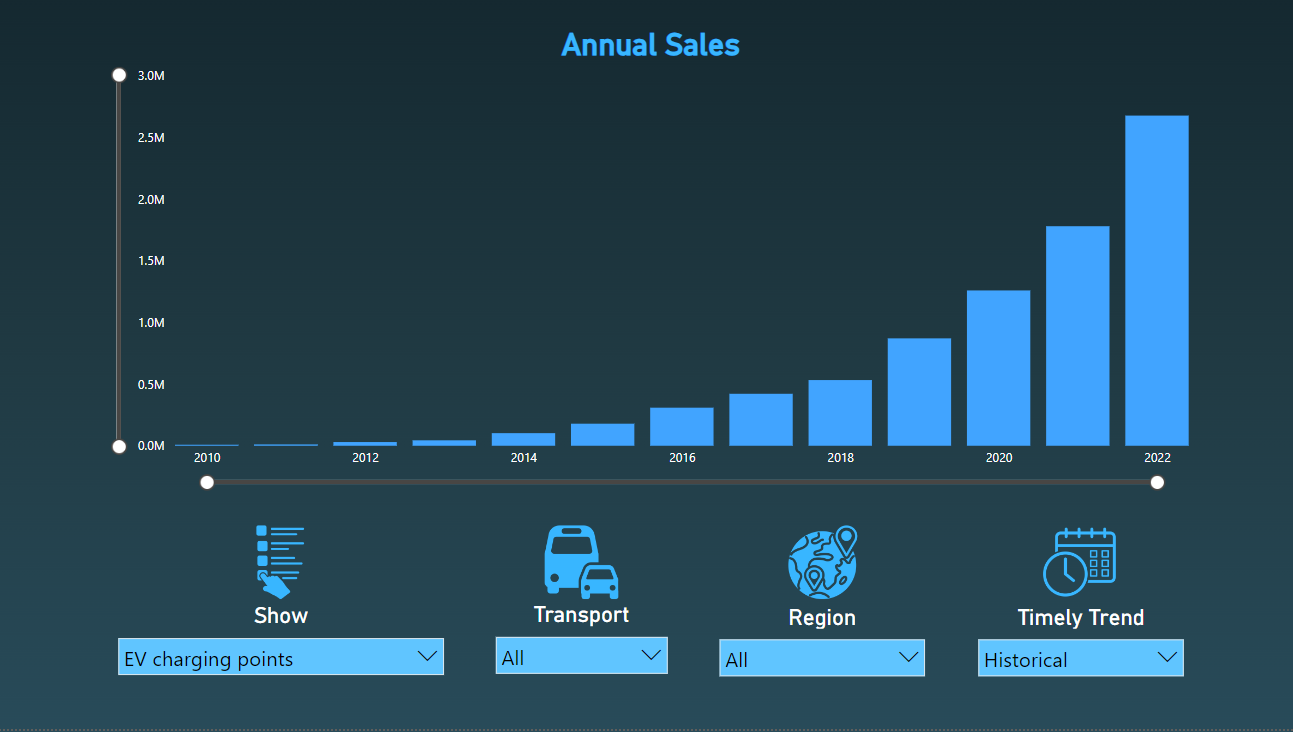

The page's visual inventory and layout, read from the dashboard file:
{"tool":"powerbi","page":{"name":"Global 2","canvas":[1280,720],"ordinal":1},"visuals":[{"type":"image","box":[530.5,515.9,88,81.9],"z":0},{"type":"image","box":[1019.5,515.9,84.3,80.7],"z":125},{"type":"image","box":[765.2,515.9,90.5,81.9],"z":250},{"type":"image","box":[238.4,515.9,83.1,81.9],"z":500},{"type":"slicer","title":"Show","fields":{"Values":["GlobalEV2023.parameter"]},"box":[110.8,596.5,338.6,79.5],"z":1000},{"type":"slicer","title":"Transport","fields":{"Values":["GlobalEV2023.mode"]},"box":[480.7,595.1,188.3,79.5],"z":2000},{"type":"slicer","title":"Region","fields":{"Values":["GlobalEV2023.region"]},"box":[699.5,597.2,221.3,79.5],"z":3000},{"type":"columnChart","title":"Annual Sales","fields":{"Category":["GlobalEV2023.year"],"Y":["Sum(GlobalEV2023.value)"]},"box":[111.2,33,1062.3,456],"z":4000},{"type":"slicer","title":"Timely Trend","fields":{"Values":["GlobalEV2023.category"]},"box":[951.8,598,221.3,79.5],"z":5000}]}

Visuals, with their boxes in screenshot pixels (x1, y1, x2, y2), scaled from the page's 1280x720 canvas onto the 1293x732 screenshot:
image: left=536, top=524, right=625, bottom=608
image: left=1030, top=524, right=1115, bottom=607
image: left=773, top=524, right=864, bottom=608
image: left=241, top=524, right=325, bottom=608
"Show" slicer: left=112, top=606, right=454, bottom=687
"Transport" slicer: left=486, top=605, right=676, bottom=686
"Region" slicer: left=707, top=607, right=930, bottom=688
"Annual Sales" columnChart: left=112, top=34, right=1185, bottom=497
"Timely Trend" slicer: left=961, top=608, right=1185, bottom=689
